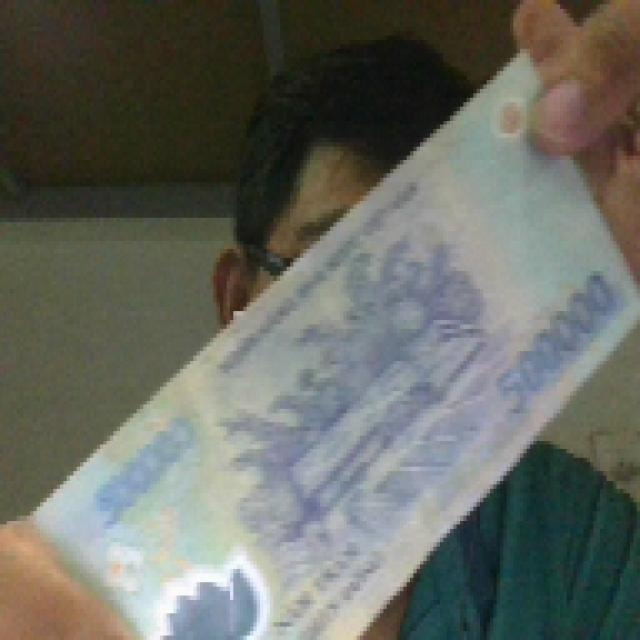500 000 VND: (23, 38, 637, 636)
